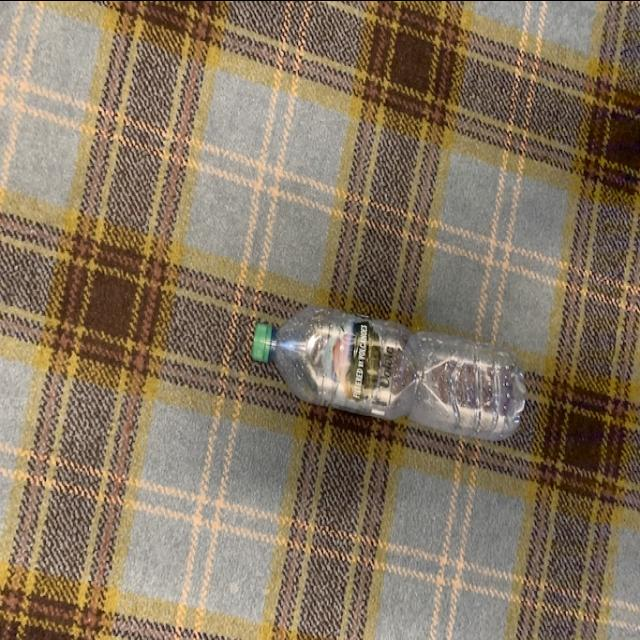litter: (252, 305, 530, 441)
